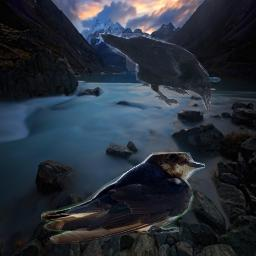Crow: (99, 33, 211, 110)
Swallow: (41, 152, 205, 244)
